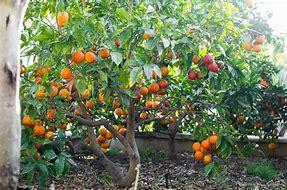orange: (52, 11, 70, 29), (33, 125, 53, 141), (96, 141, 118, 155), (60, 66, 73, 81), (50, 83, 60, 101), (83, 53, 98, 62), (73, 50, 84, 62), (150, 80, 159, 93), (209, 136, 219, 146), (200, 139, 208, 148), (195, 152, 204, 160), (114, 105, 120, 116), (204, 156, 212, 164), (193, 141, 200, 149), (141, 86, 147, 92), (99, 128, 104, 133)
